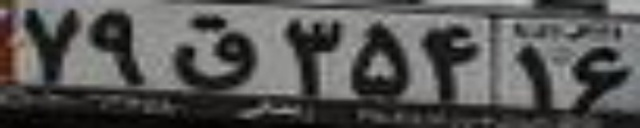1: (514, 43, 556, 110)
3: (278, 17, 343, 97)
4: (418, 26, 478, 102)
5: (345, 22, 412, 97)
6: (567, 44, 630, 112)
7: (22, 6, 81, 85)
9: (87, 7, 147, 85)
ghaf: (168, 14, 260, 90)
